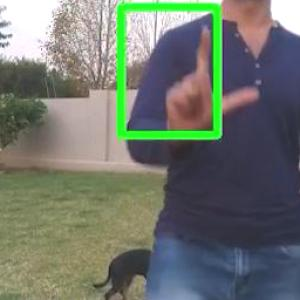land_hand: (158, 19, 260, 136)
